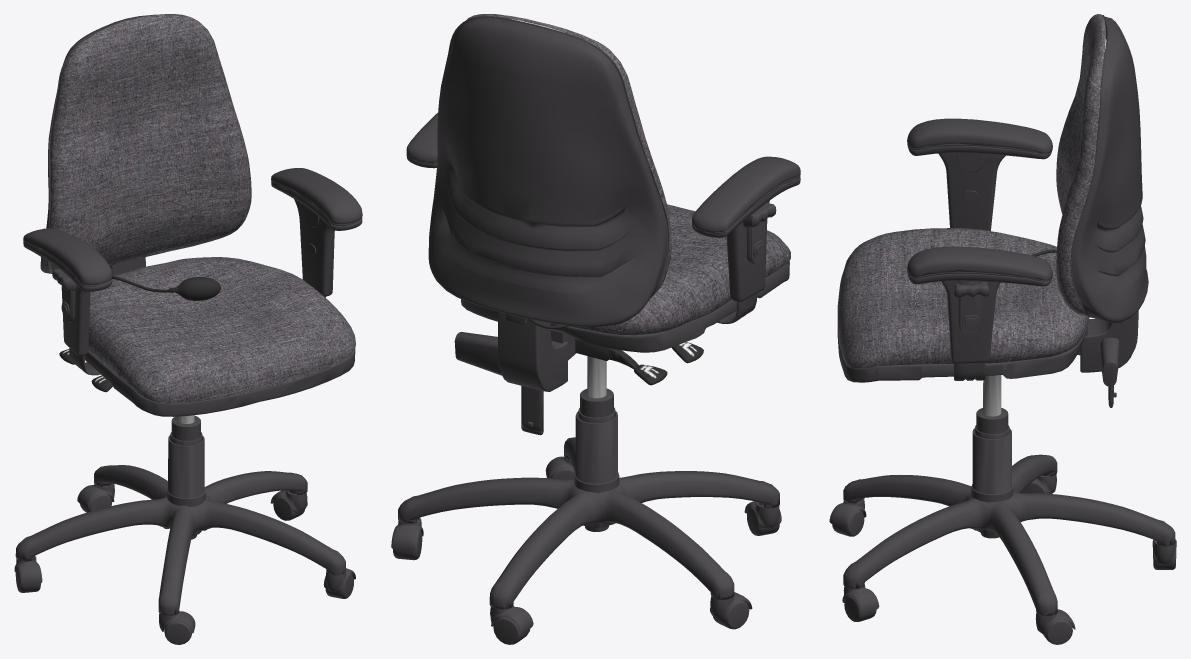
File: B06W5XBL3D.glb
3 views of the same model, side by side, from view 1: azimuth 30°, elevation 25°; view 2: azimuth 150°, elevation 25°; view 3: azimuth 270°, elevation 25° (orthographic). The views are drawn at different scales.
Parts seen in each view (by area): view 1: B06W5XBL3D; view 2: B06W5XBL3D; view 3: B06W5XBL3D.
Boxes of the visible parts, x1,y1,x2,y2 form: B06W5XBL3D: [14, 14, 362, 644]; B06W5XBL3D: [391, 14, 800, 644]; B06W5XBL3D: [829, 14, 1176, 644].
Bounding box in the file's own units: 0.5499 × 0.9098 × 0.5296.
1 material, 1 textured.
